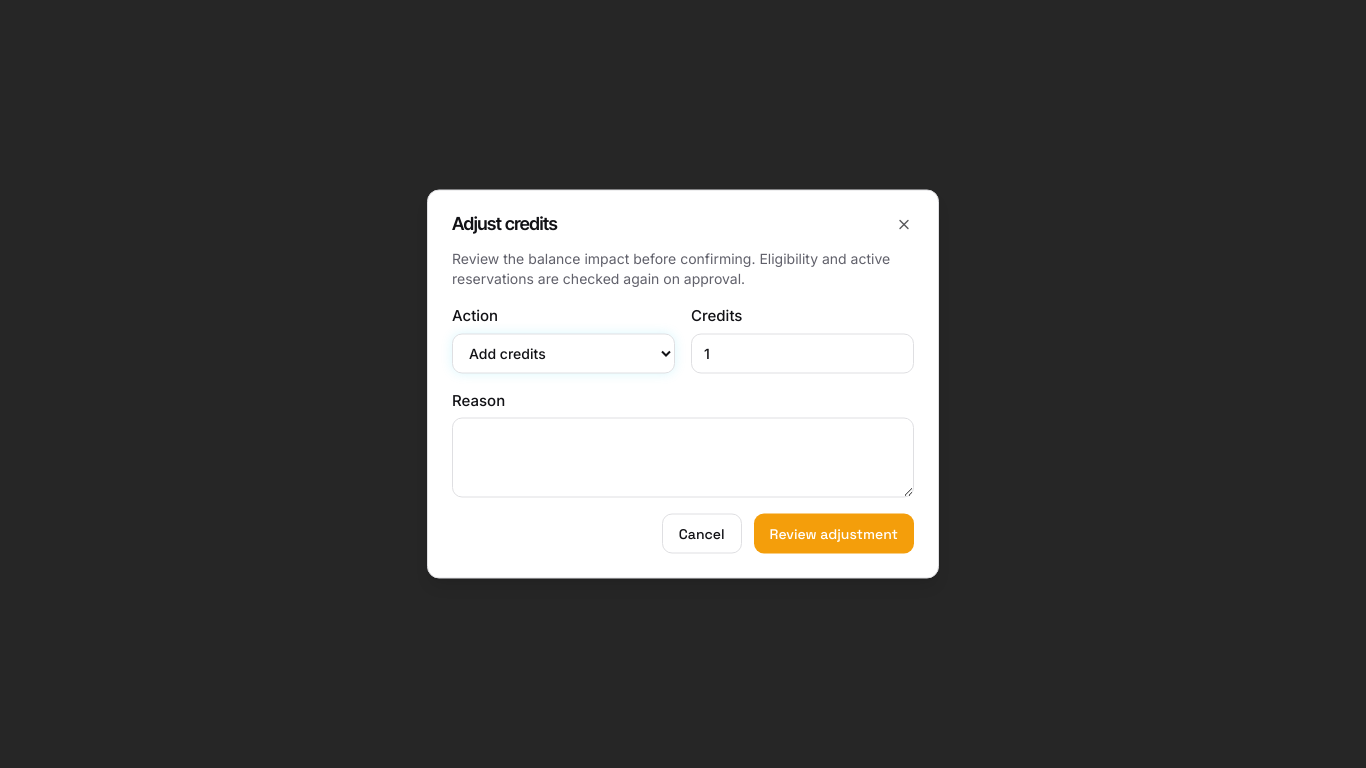
source-linked refund review › reviews a customer-prefilled credit change and confirms with a password
Step 1. Type "Local test restoration review" into the text box labelled "Reason" → (683, 458), box [452,418,914,498]
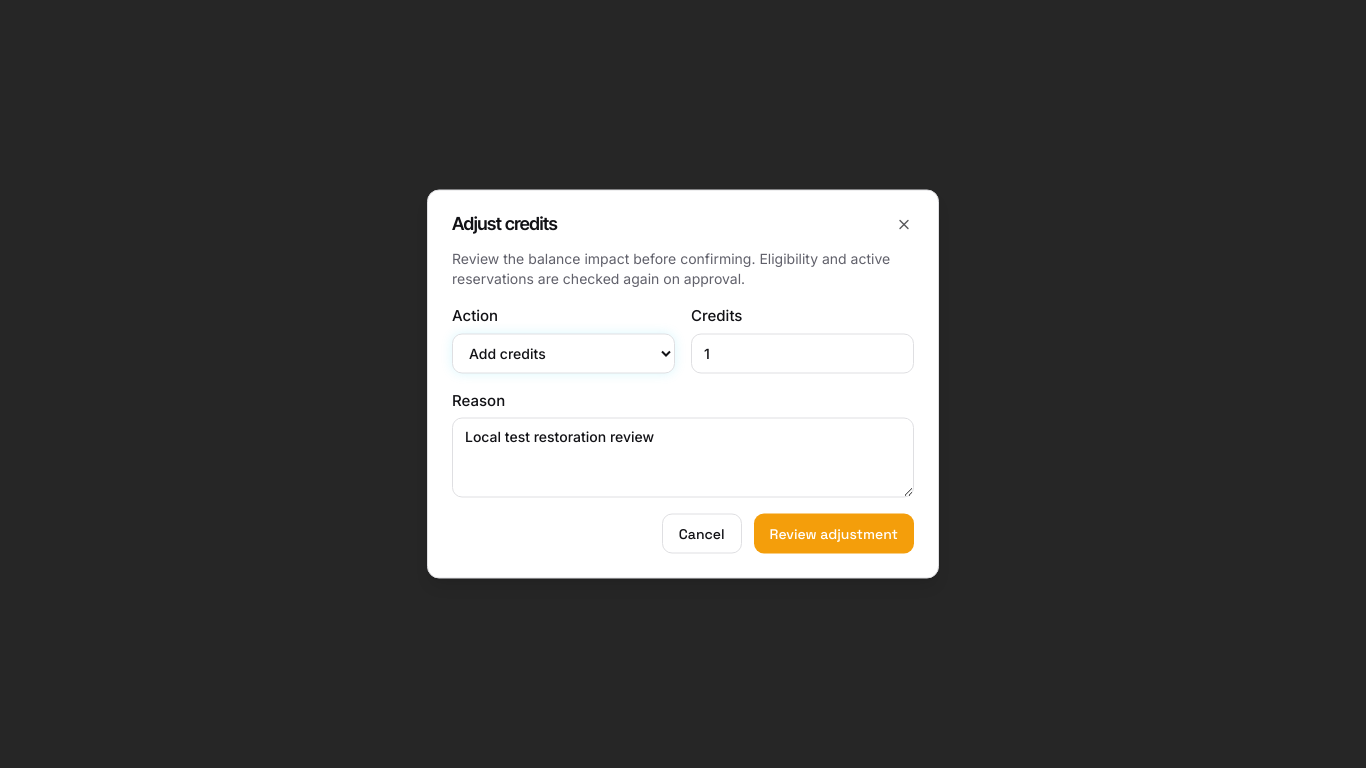
Step 2. Click the button "Review adjustment" → (834, 534), box [754,514,914,554]
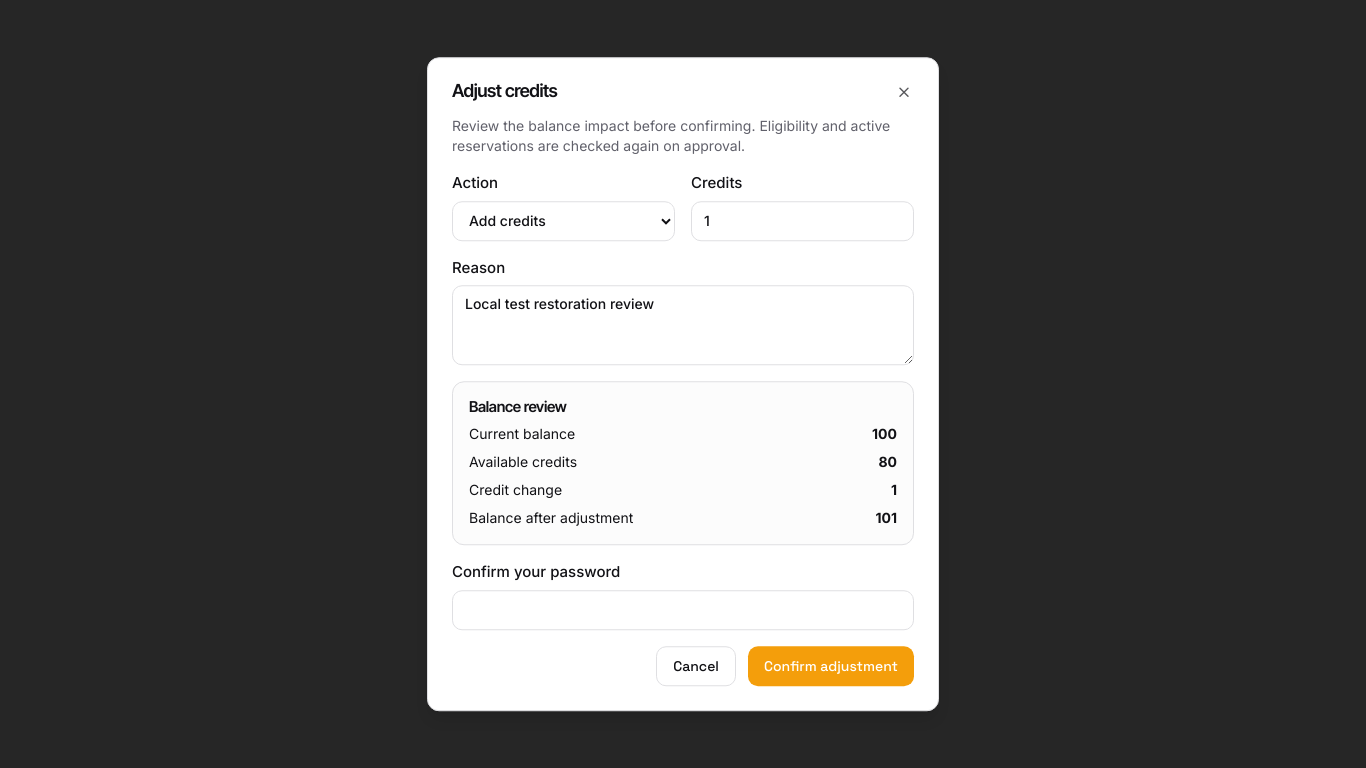
Expected: the text "Balance after adjustment" is shown, [469,508,633,528]
Step 3. Type "synthetic-password" into the password field labelled "Confirm your password" → (683, 610), box [452,590,914,630]
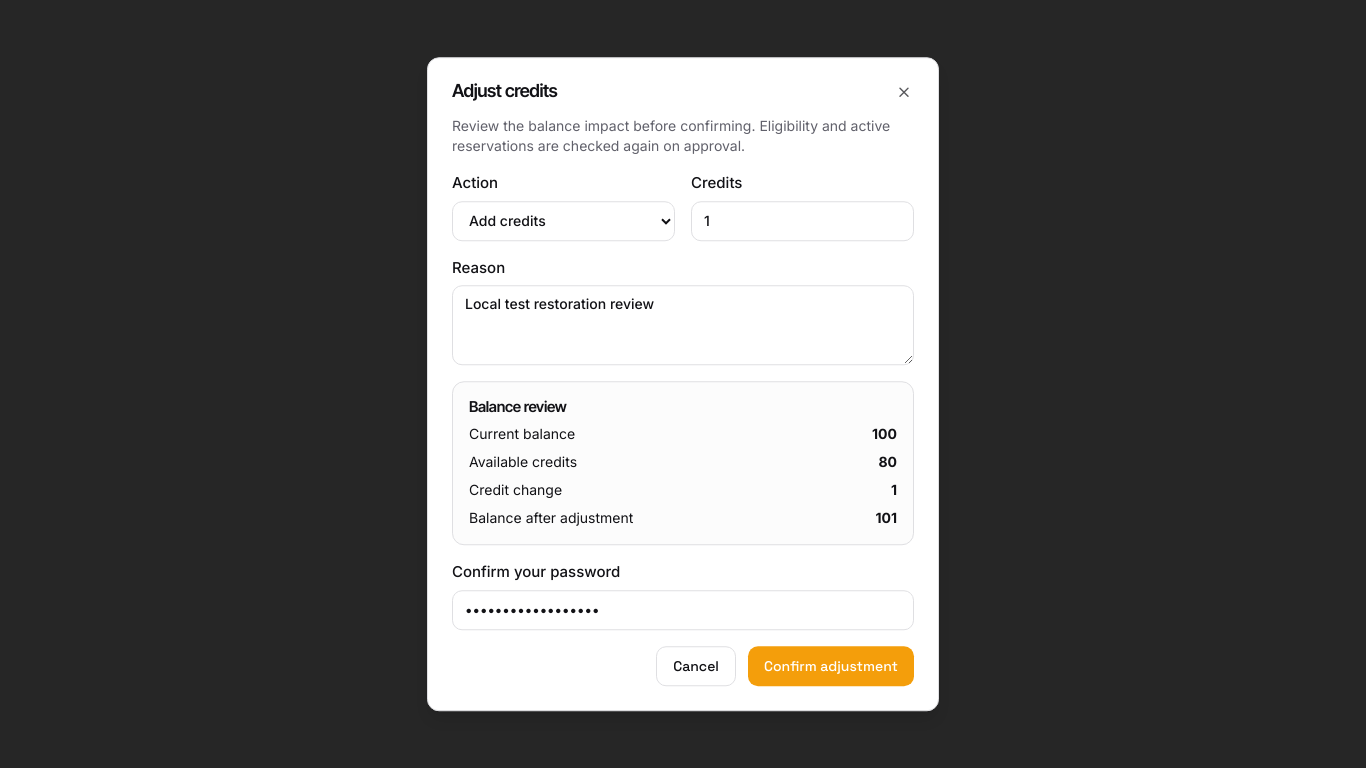
Step 4. Click the button "Confirm adjustment" → (831, 666), box [748,646,914,686]
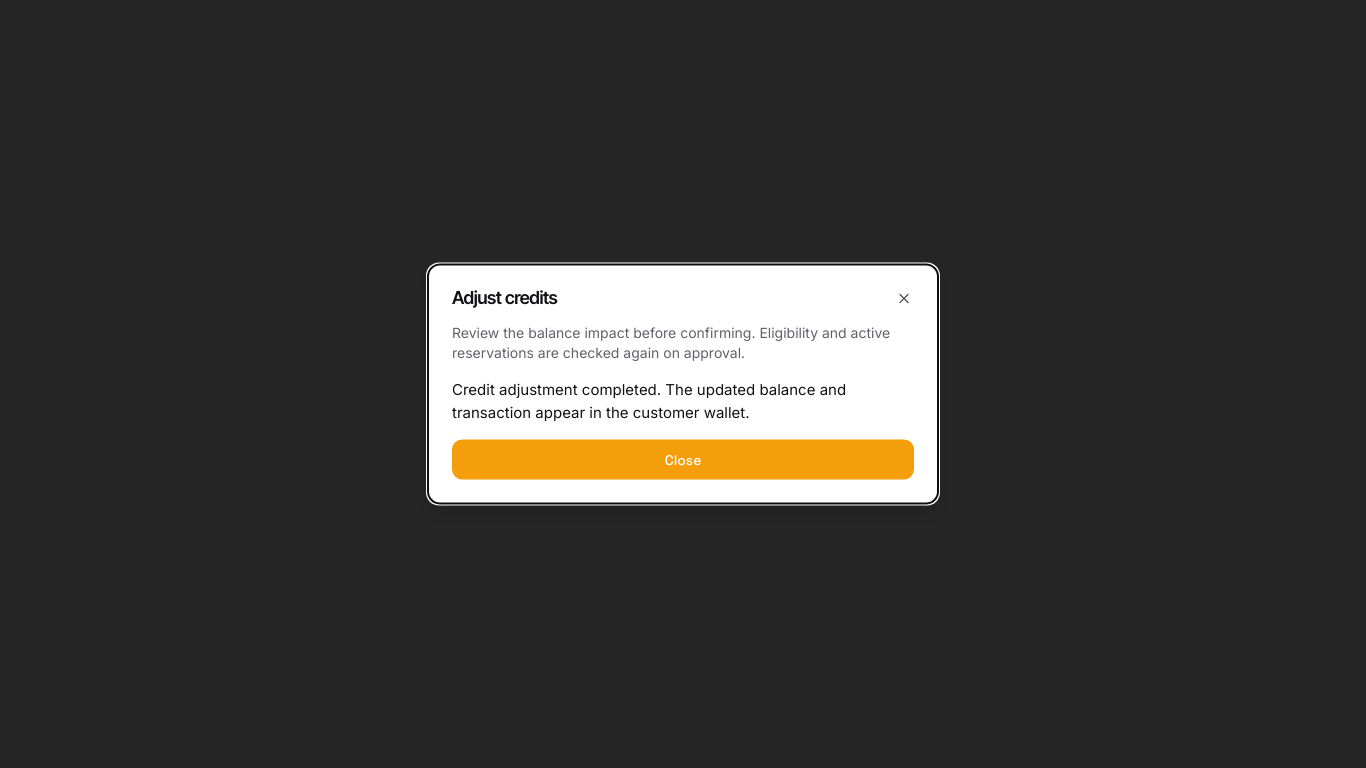
Expected: the text "Credit adjustment completed" is shown, [452,380,846,421]
